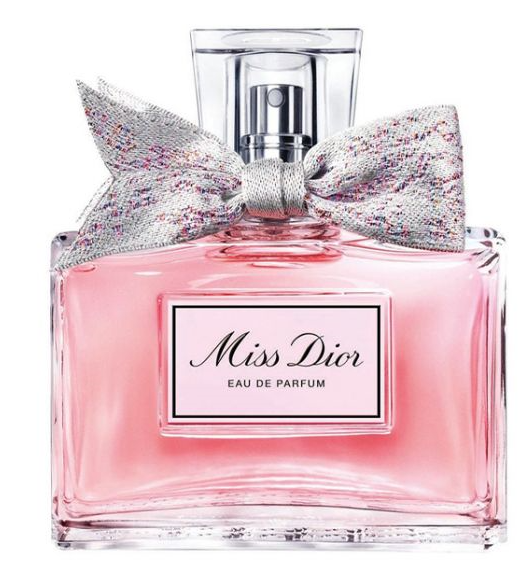dior_miss_dior: (39, 14, 514, 553)
